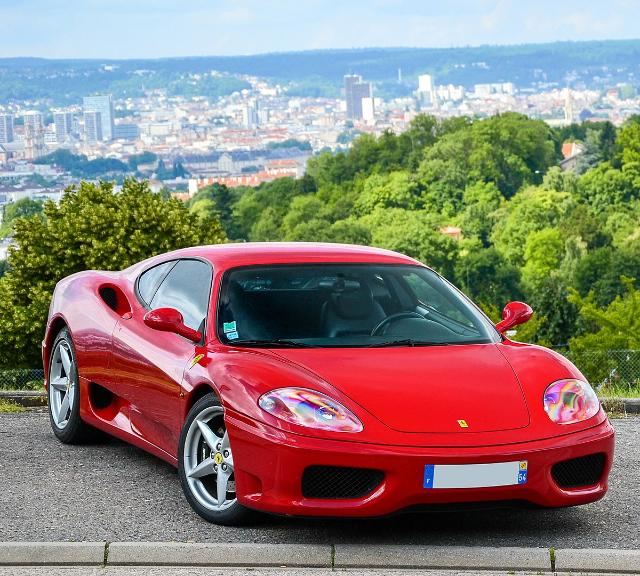ferrari: (40, 241, 616, 525)
